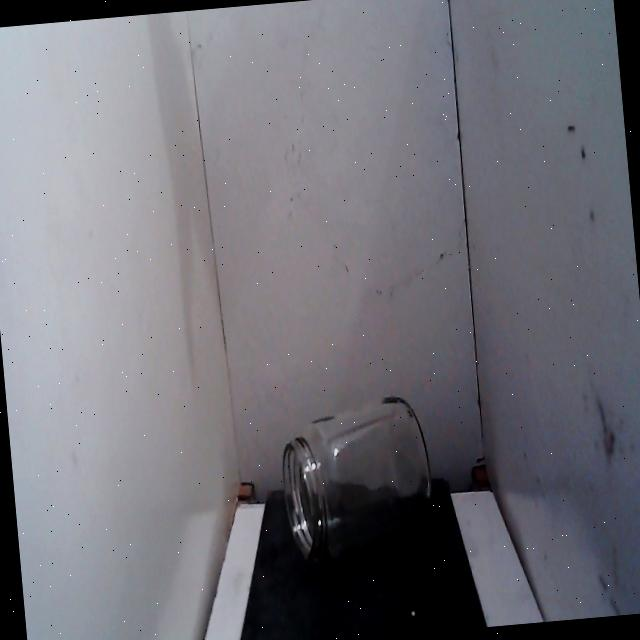glass: (265, 378, 445, 584)
